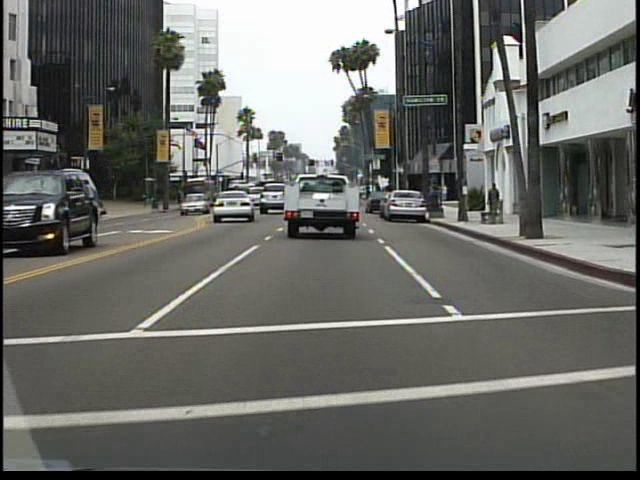person: (484, 181, 503, 220), (142, 190, 152, 213)
